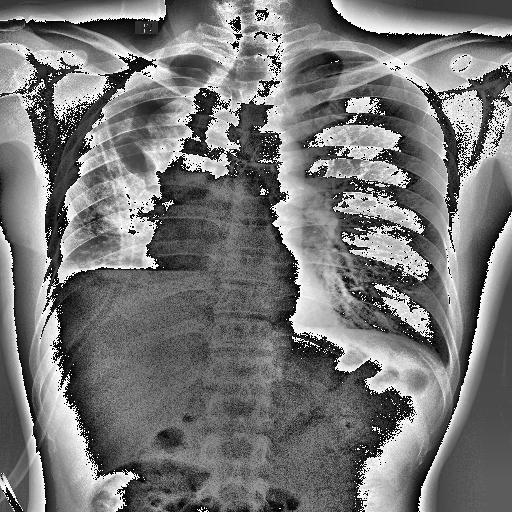10- Pleural effusion: (44, 265, 188, 330), (51, 266, 211, 320), (34, 262, 161, 328)
12- Pneumothorax: (101, 49, 215, 193), (88, 54, 213, 114), (118, 56, 220, 112)
13- Pulmonary fibrosis: (42, 74, 182, 264)
4- Consolidation: (84, 165, 162, 236)
6- Infiltration: (42, 74, 182, 264)
7- Lung Opacity: (42, 74, 182, 264), (46, 113, 158, 269)
